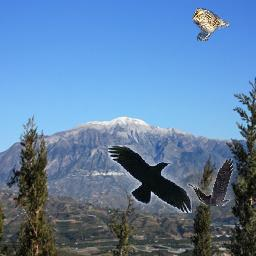Crow: (108, 145, 192, 213), (187, 158, 233, 206)
Sparrow: (192, 9, 230, 42)
